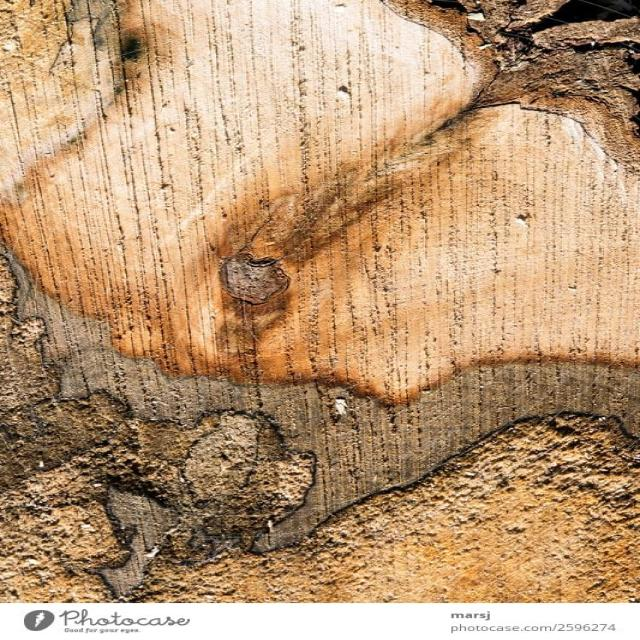have-wooden-eyes: (100, 488, 175, 597), (223, 254, 291, 304)
